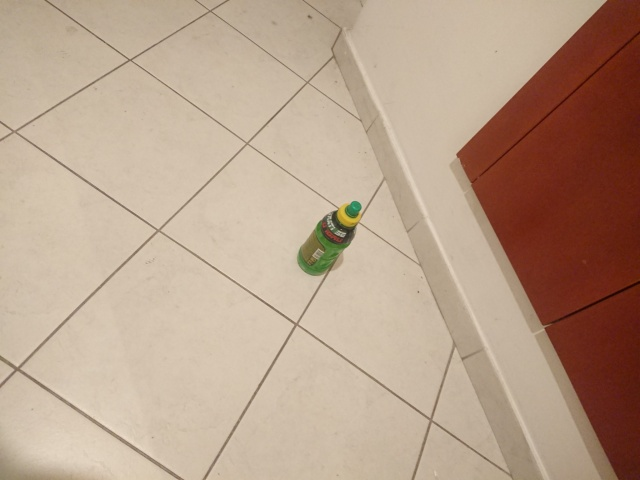Vindi Iso Sport Lemon-Grapefruit 500mL: (295, 199, 363, 278)
